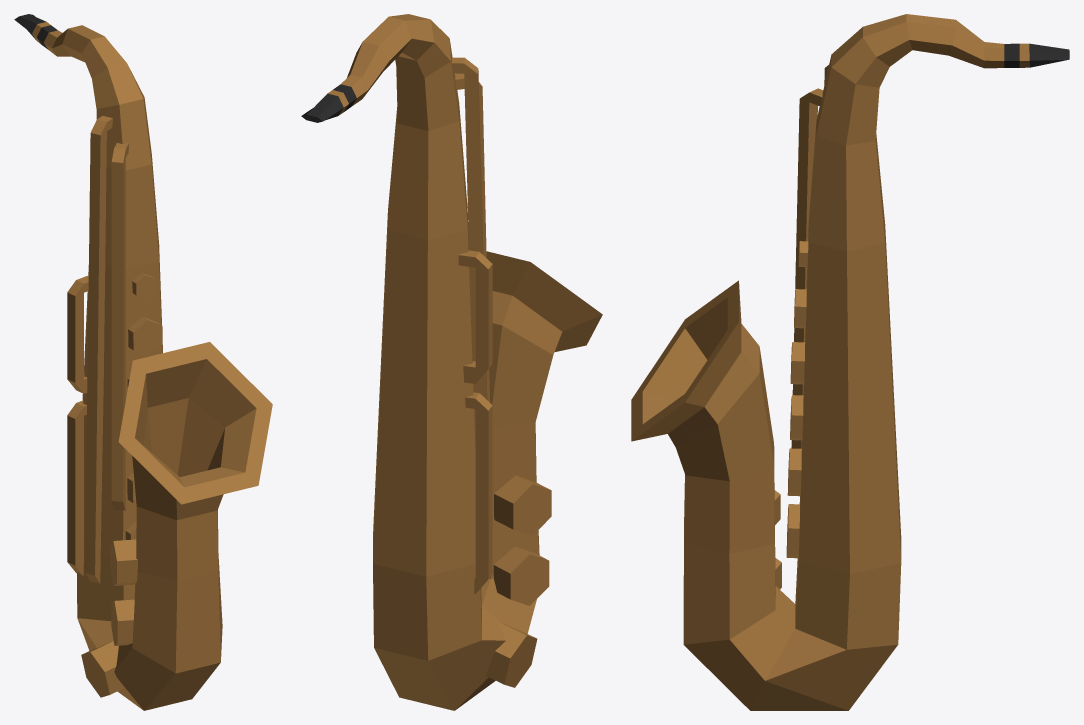
The model's file is music-saxophone-tenor.glb.
3 views of the same model, side by side, from view 1: azimuth 30°, elevation 25°; view 2: azimuth 150°, elevation 25°; view 3: azimuth 270°, elevation 25° (orthographic). The views are drawn at different scales.
Visible parts, largest first — view 1: saxophone-tenor; view 2: saxophone-tenor; view 3: saxophone-tenor.
Boxes of the visible parts, x1,y1,x2,y2 form: saxophone-tenor: (14, 14, 272, 710); saxophone-tenor: (301, 14, 602, 710); saxophone-tenor: (631, 14, 1069, 710).
Bounding box in the file's own units: 0.2136 × 0.8146 × 0.476.
